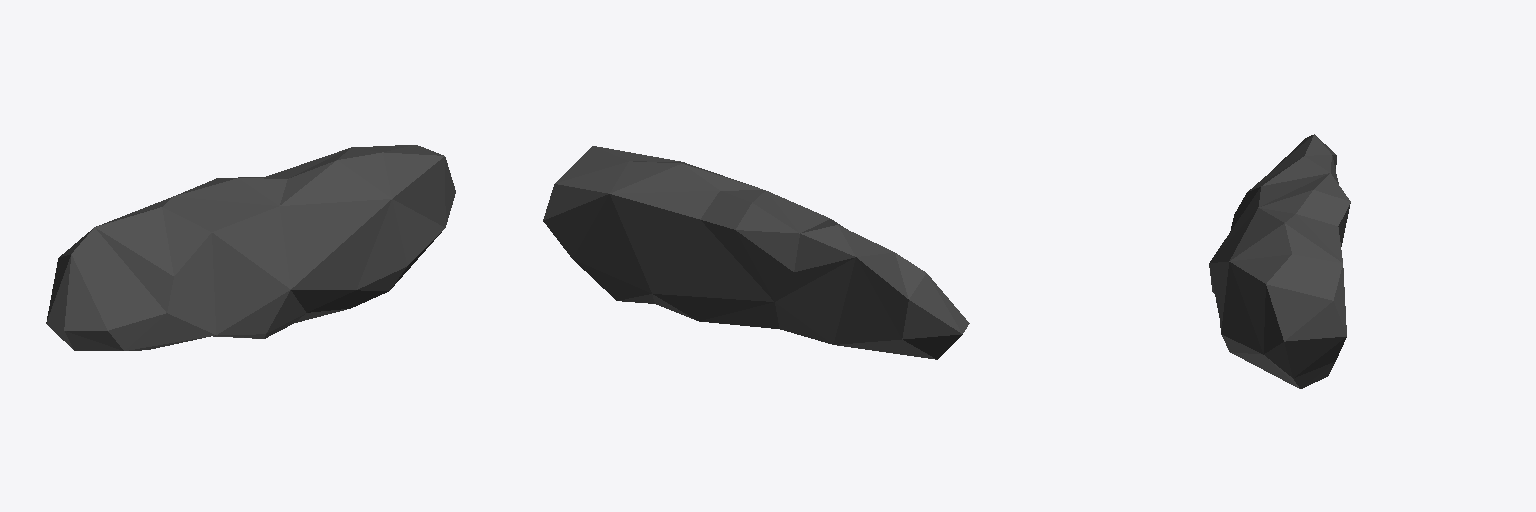
File: rock5.obj
The picture shows the model from 3 angles: view 1: azimuth 30°, elevation 25°; view 2: azimuth 150°, elevation 25°; view 3: azimuth 270°, elevation 25°; orthographic projection.
Parts seen in each view (by area): view 1: low_poly_rock_5; view 2: low_poly_rock_5; view 3: low_poly_rock_5.
Boxes of the visible parts, <box> form: low_poly_rock_5: <box>46,145,455,350</box>; low_poly_rock_5: <box>543,146,969,359</box>; low_poly_rock_5: <box>1209,134,1350,388</box>.
Size of the model in its own units: 3.63 by 1.26 by 1.1.